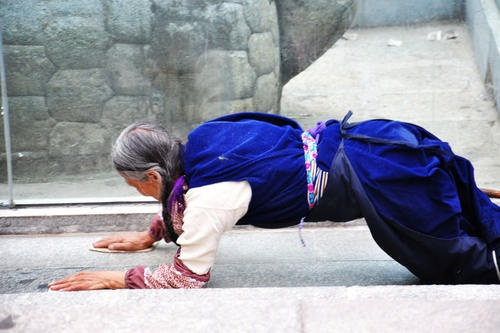falling: (49, 112, 500, 289)
